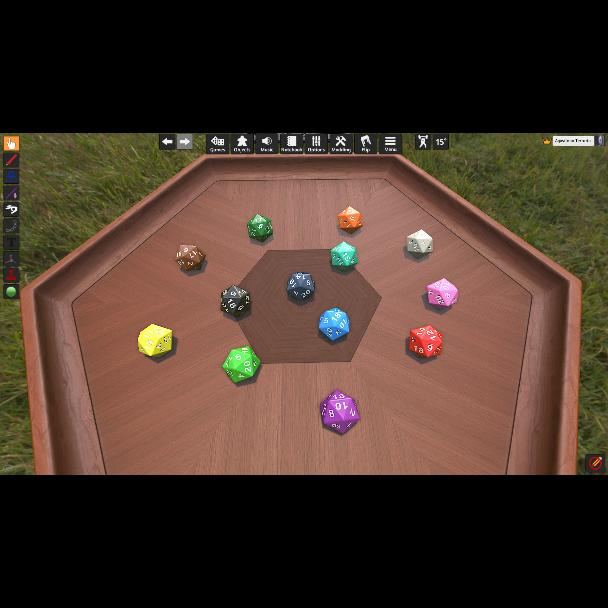d20: (320, 390, 360, 432), (223, 346, 261, 382), (138, 324, 172, 357), (409, 326, 441, 358), (318, 308, 348, 338), (426, 278, 456, 308), (220, 286, 248, 318), (176, 244, 206, 272), (287, 272, 315, 300), (330, 242, 356, 272), (246, 214, 272, 242), (337, 206, 361, 234), (410, 230, 434, 256)
